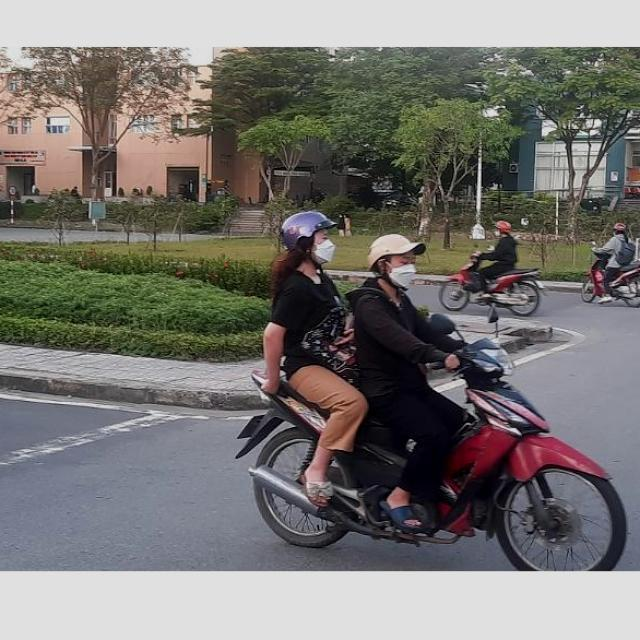Helmet: (280, 212, 338, 271), (366, 226, 420, 289)
